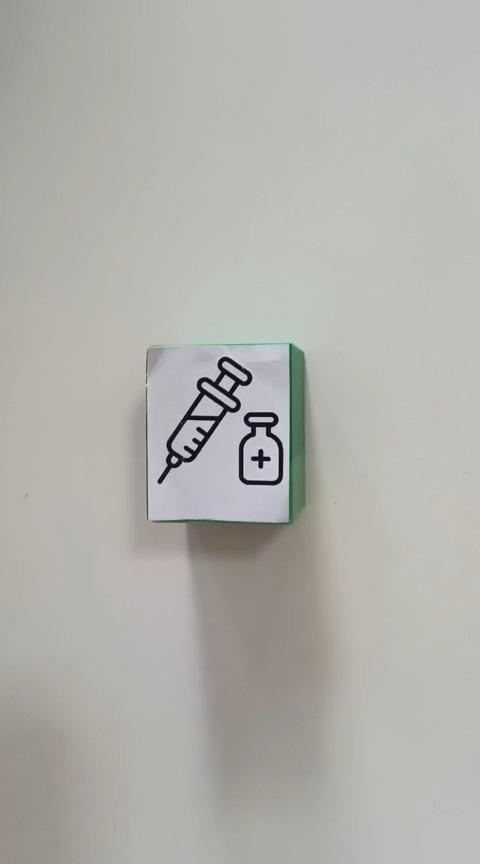antiseptic cream: (144, 341, 305, 525)
